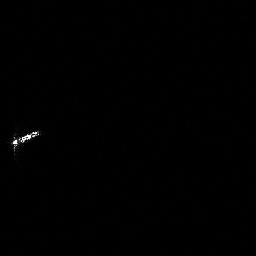ship: (11, 129, 40, 145)
